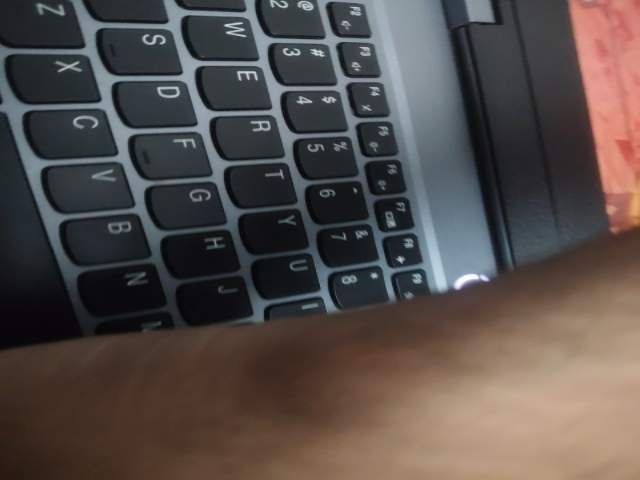pothole: (291, 311, 391, 391)
